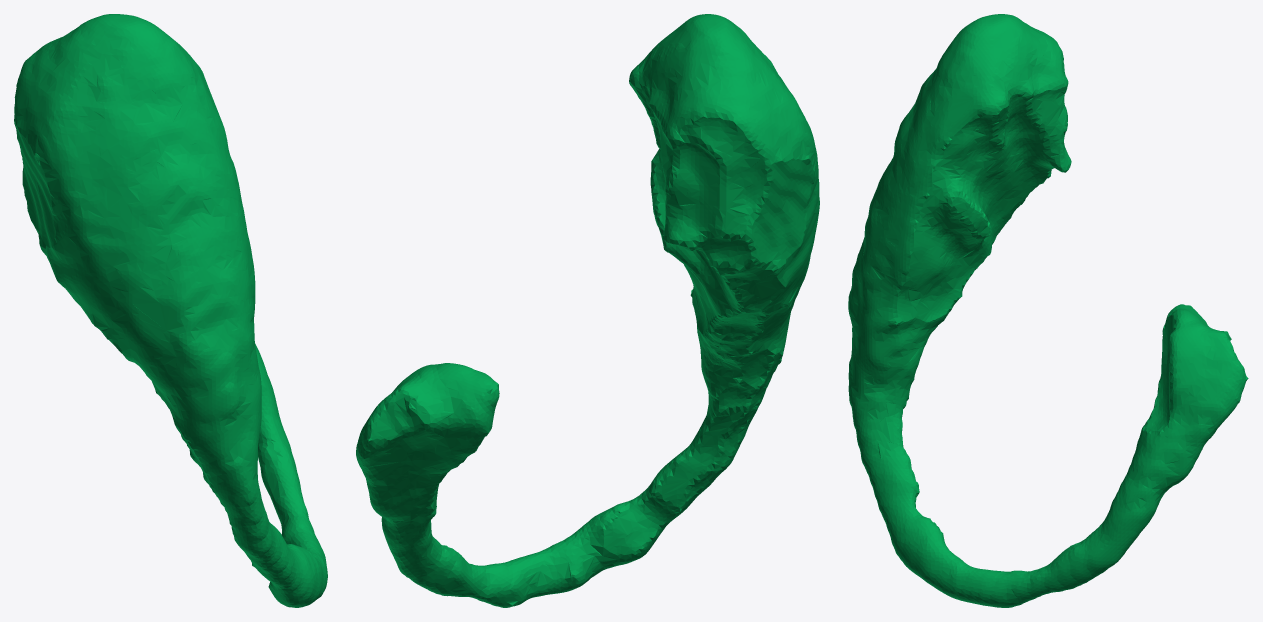
The model's file is Model_233_RH__Caudate_nucleus_(Cd).obj.
The picture shows the model from 3 angles, left to right: view 1: azimuth 30°, elevation 25°; view 2: azimuth 150°, elevation 25°; view 3: azimuth 270°, elevation 25°; orthographic projection. The views are drawn at different scales.
Size of the model in its own units: 7.39 by 13.31 by 9.46.
